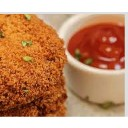cutlet: (1, 13, 67, 115)
